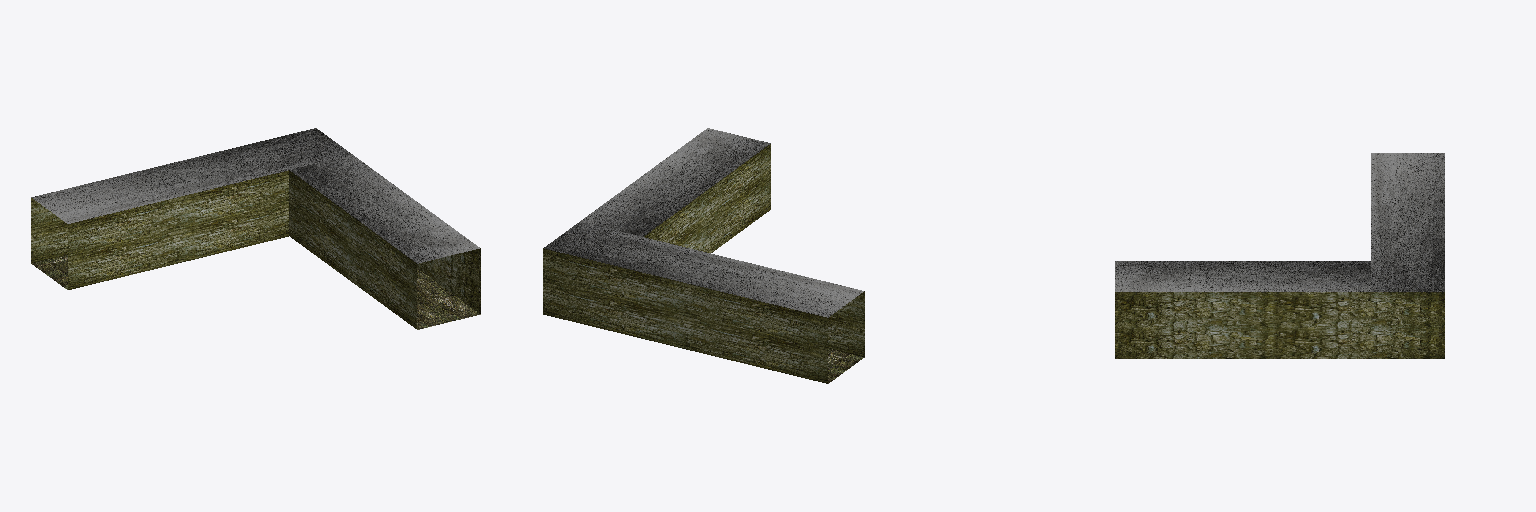
3 renders of one model, left to right at view 1: azimuth 30°, elevation 25°; view 2: azimuth 150°, elevation 25°; view 3: azimuth 270°, elevation 25°, orthographic.
Visible parts, largest first — view 1: Mur_2, Toiture_1, Mur_3, Toiture_2, Mur_4, Sol_2, Mur_1, Sol_1; view 2: Mur_1, Toiture_1, Toiture_2, Mur_3, Mur_2, Sol_1; view 3: Mur_4, Toiture_1, Toiture_2.
Part boxes in pixels (x1,y1,x2,y2): Mur_2: (68,170,288,289); Toiture_1: (31,128,352,223); Mur_3: (289,170,416,328); Toiture_2: (290,155,479,263); Mur_4: (417,248,480,313); Sol_2: (417,268,480,329); Mur_1: (31,198,67,263); Sol_1: (32,255,67,289); Mur_1: (543,248,827,383); Toiture_1: (544,222,863,317); Toiture_2: (580,128,770,236); Mur_3: (644,144,770,252); Mur_2: (828,291,864,356); Sol_1: (828,348,864,383); Mur_4: (1115,292,1444,358); Toiture_1: (1371,153,1444,291); Toiture_2: (1115,261,1370,291).
Size of the model in its own units: 18 by 4 by 18.
Materials: 3 (3 with a texture image).